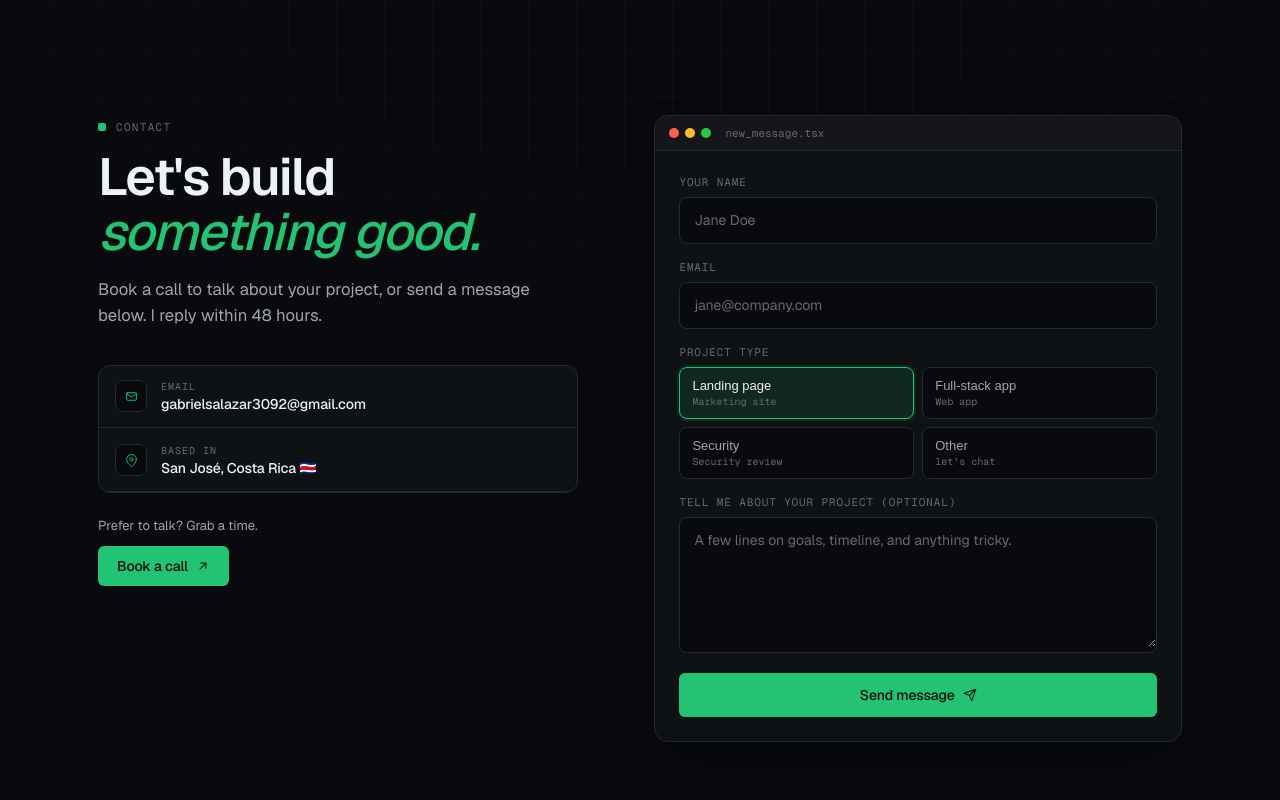
Scenario: Contact section › submits successfully with empty message (optional)
This screenshot has width=1280, height=800.
Step 1. Type "Test User" into the field labelled "Your name" → (918, 221), box [680,198,1156,243]
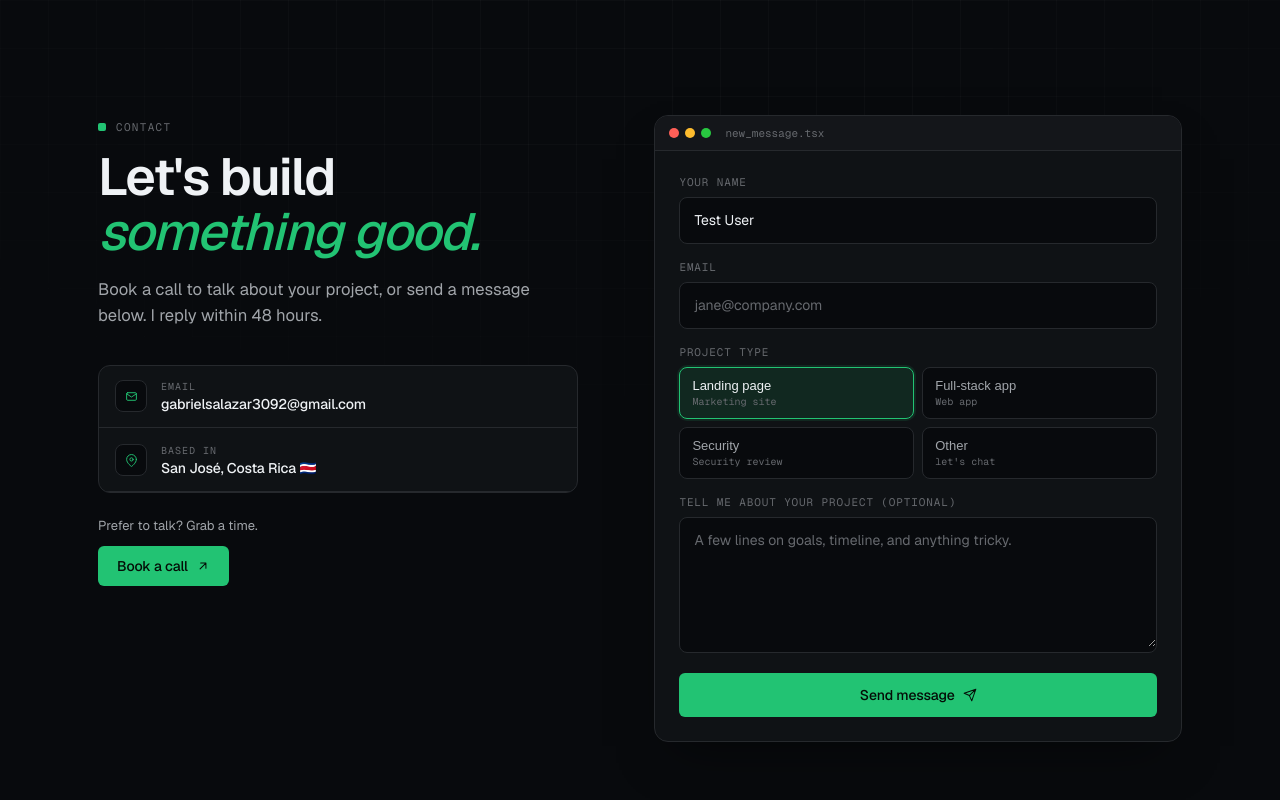
Step 2. Type "test@example.com" into the field labelled "Email" → (918, 306), box [680,283,1156,328]
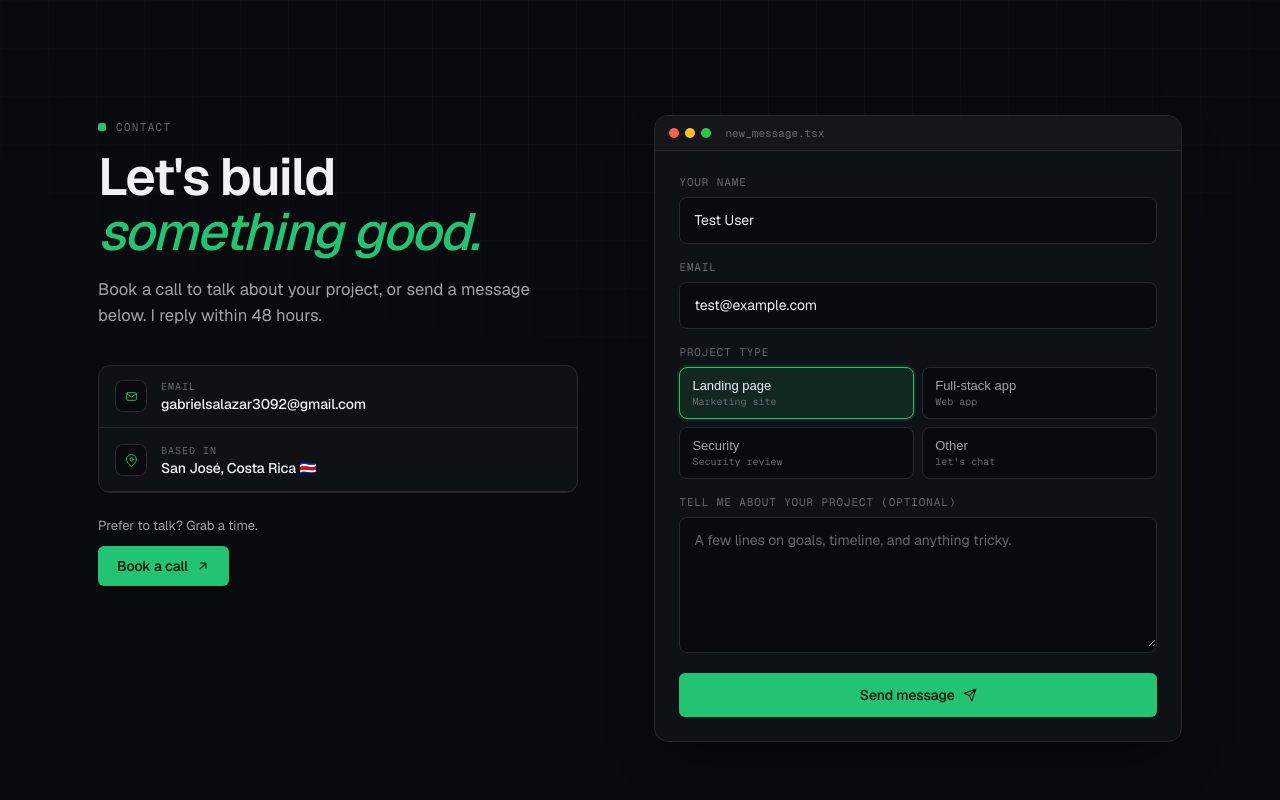
Step 3. Click the button "Send message" → (918, 695), box [679,673,1157,717]
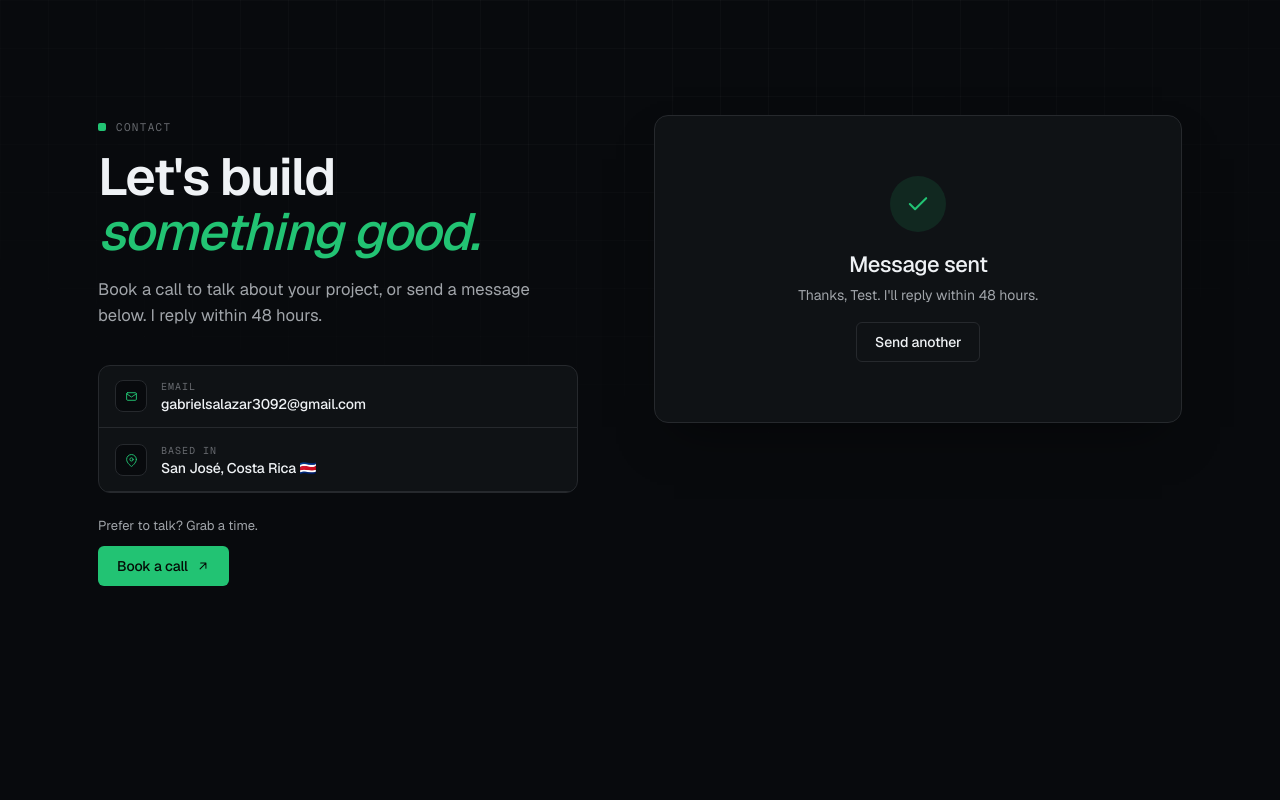
Result: the text "Message sent" is shown at [849,250,988,278]
